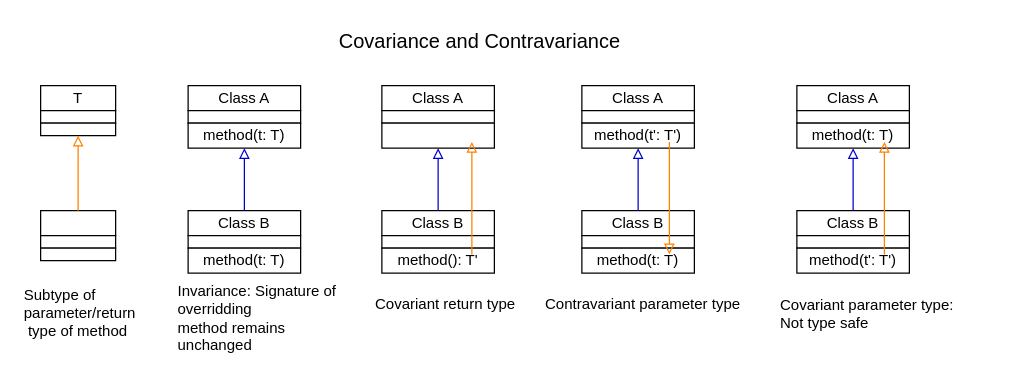
Image size: 1011x383. Some labels were removed from this diagram. Here are the shapes that lost their labels. From the top down, the centre of each, then its label:
the point at 437,135: method(): T
the point at 77,222: T'
